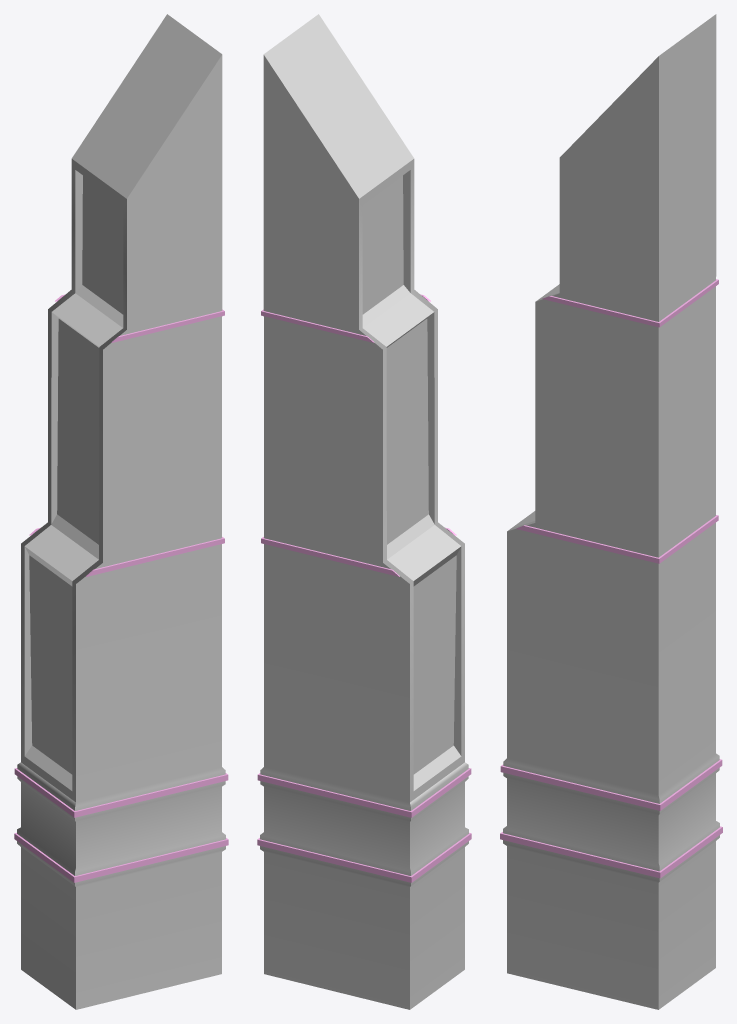
Rendered from SM_Environment_Buildings_Tall_03.fbx.
3 views of the same model, side by side, from view 1: azimuth 30°, elevation 25°; view 2: azimuth 150°, elevation 25°; view 3: azimuth 330°, elevation 25° (orthographic). The views are drawn at different scales.
Visible parts, largest first — view 1: SM_Environment_Buildings_Tall_03, Lights; view 2: SM_Environment_Buildings_Tall_03, Lights; view 3: SM_Environment_Buildings_Tall_03, Lights.
Boxes of the visible parts, left/top/right/bottom form: SM_Environment_Buildings_Tall_03: left=17, top=14, right=225, bottom=1009; Lights: left=14, top=294, right=228, bottom=882; SM_Environment_Buildings_Tall_03: left=260, top=14, right=468, bottom=1009; Lights: left=257, top=294, right=471, bottom=882; SM_Environment_Buildings_Tall_03: left=503, top=14, right=719, bottom=1009; Lights: left=500, top=279, right=722, bottom=878.
Bounding box in the file's own units: 9.7 × 55.19 × 6.54.
